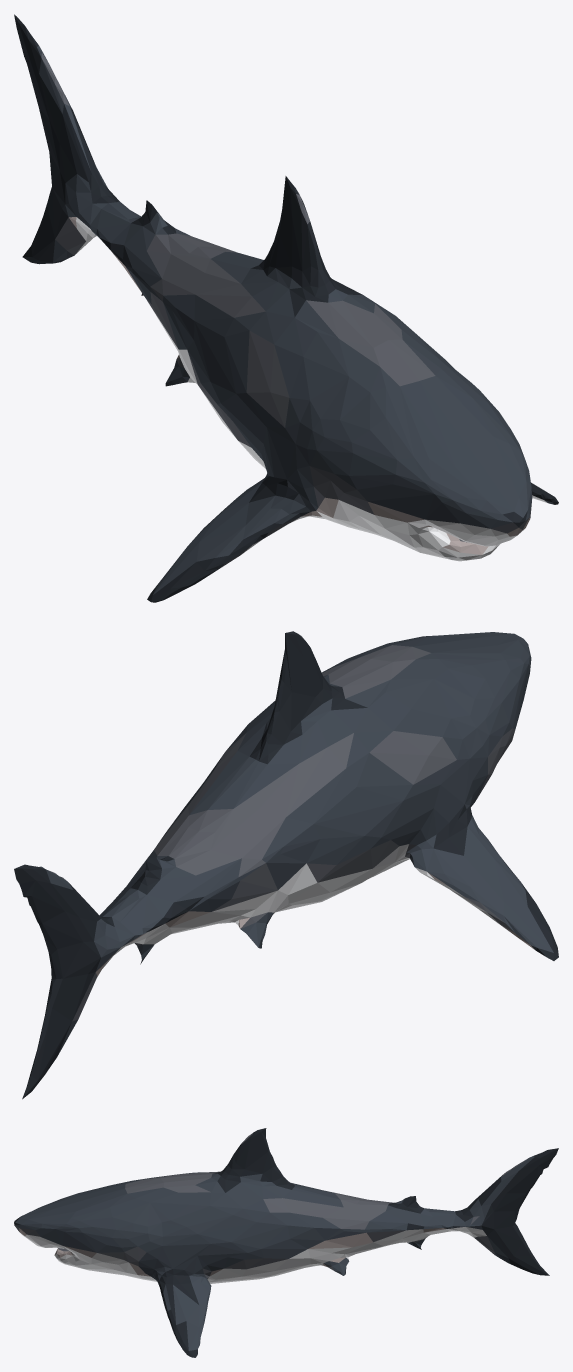
File: wild-shark.glb
3 renders of one model, top to bottom at view 1: azimuth 30°, elevation 25°; view 2: azimuth 150°, elevation 25°; view 3: azimuth 270°, elevation 25°, orthographic. The views are drawn at different scales.
Parts seen in each view (by area): view 1: low-poly-great-white-shark; view 2: low-poly-great-white-shark; view 3: low-poly-great-white-shark.
Part boxes in pixels (x1,y1,x2,y2): low-poly-great-white-shark: (14,14,558,602); low-poly-great-white-shark: (14,631,558,1099); low-poly-great-white-shark: (14,1128,558,1357).
Size of the model in its own units: 2.33 by 1.79 by 5.
Materials: 1 (1 with a texture image).
